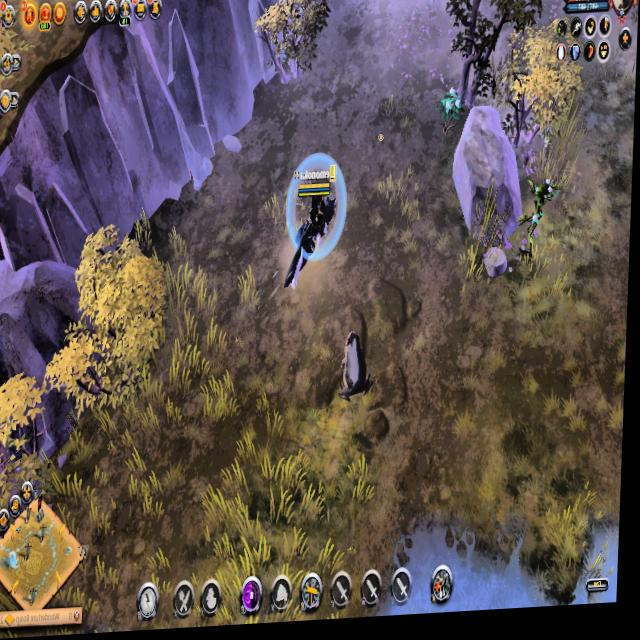fiber tier 3: (437, 90, 466, 143)
